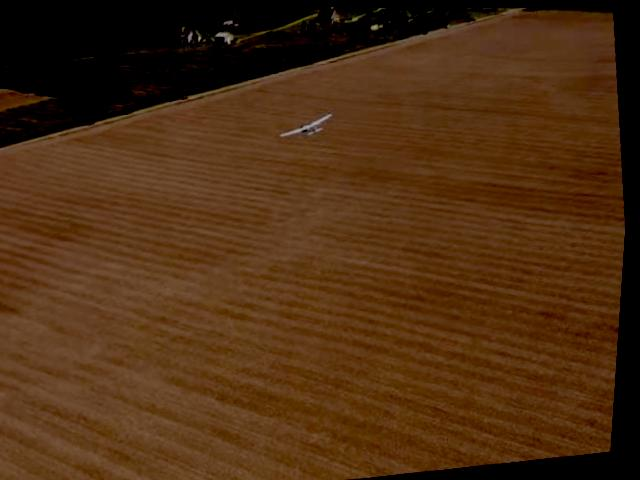iha: (277, 106, 337, 140)
